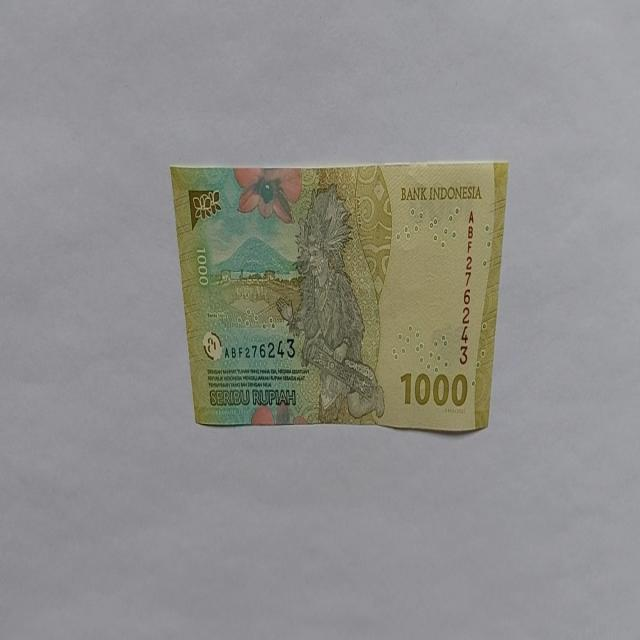seribu rupiah kertas: (169, 160, 509, 432)
